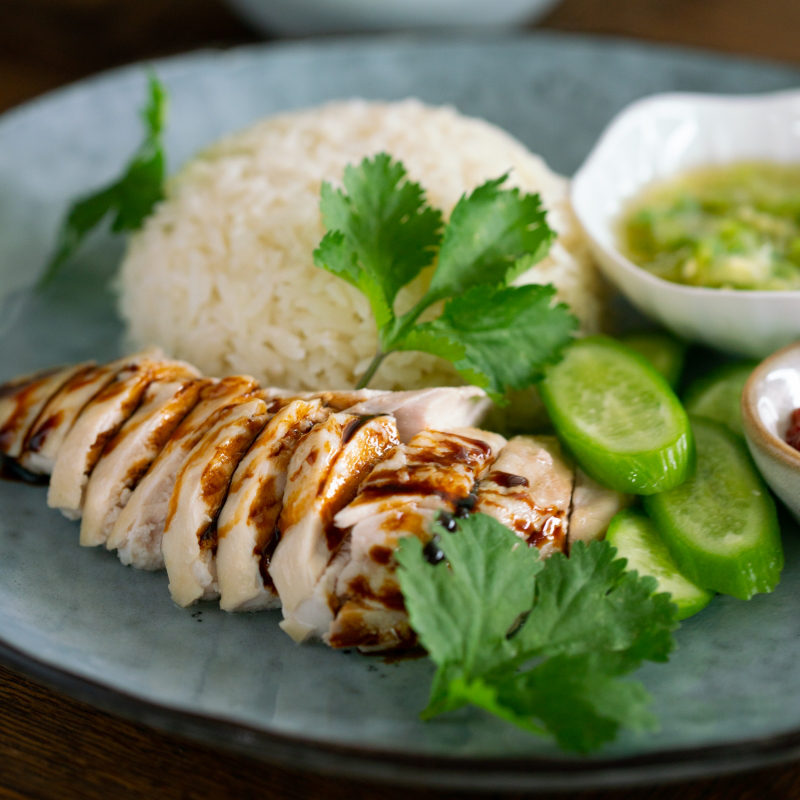Steamed Chicken Rice: (24, 80, 579, 642)
